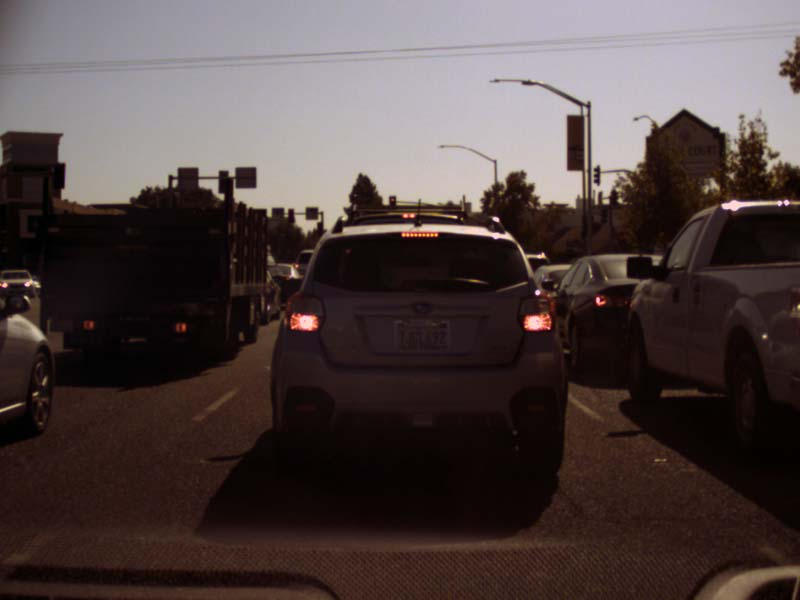Red: (389, 196, 396, 206)
